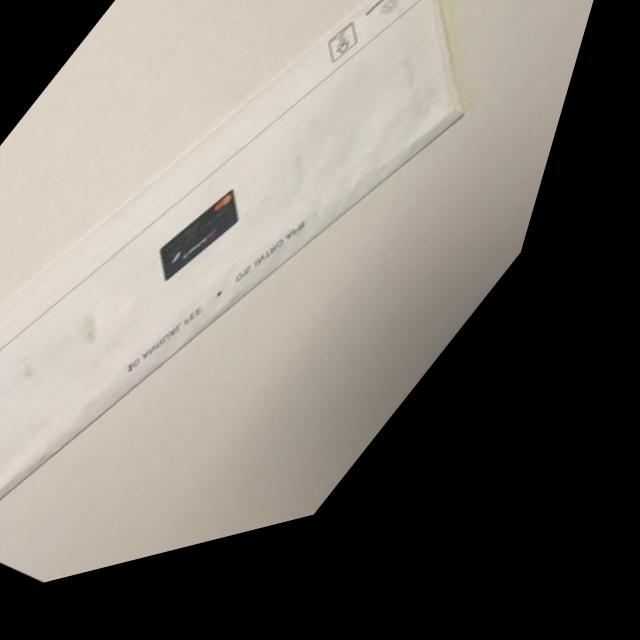paper: (0, 0, 585, 639)
